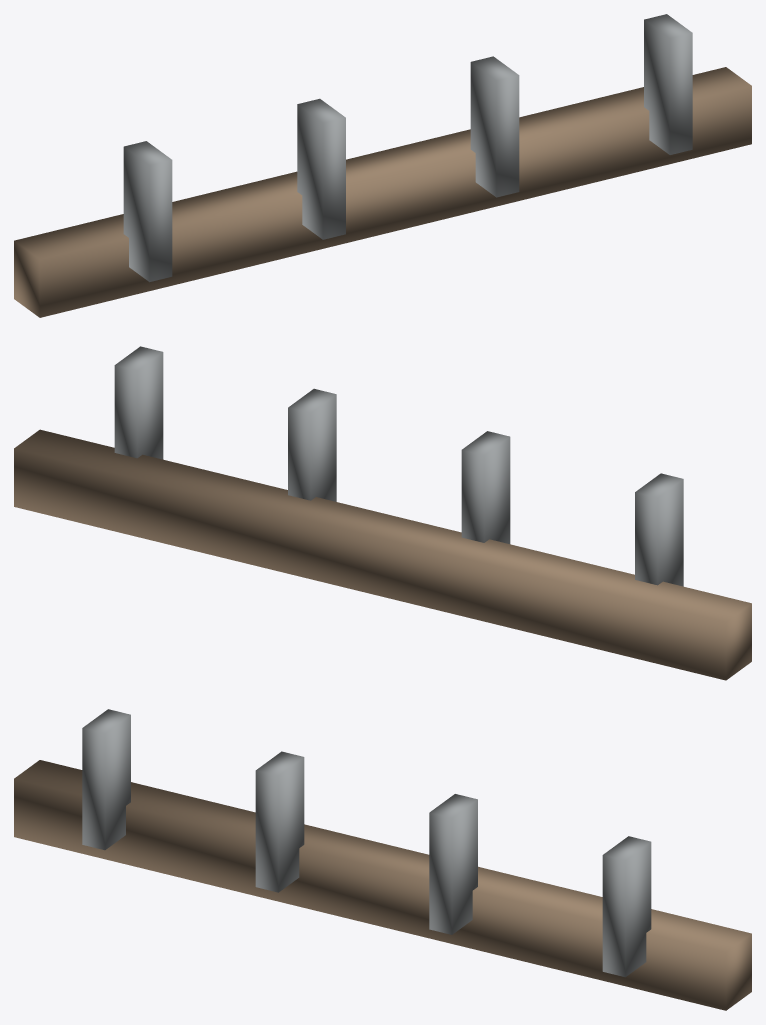
Rendered from door_coat_hook__squat.glb.
The picture shows the model from 3 angles, top to bottom: view 1: azimuth 30°, elevation 25°; view 2: azimuth 150°, elevation 25°; view 3: azimuth 330°, elevation 25°; orthographic projection.
Visible parts, largest first — view 1: world; view 2: world; view 3: world.
Boxes of the visible parts, x1,y1,x2,y2 form: world: (14, 14, 751, 317); world: (14, 346, 751, 680); world: (14, 709, 751, 1010).
Bounding box in the file's own units: 0.858 × 0.168 × 0.0972.
